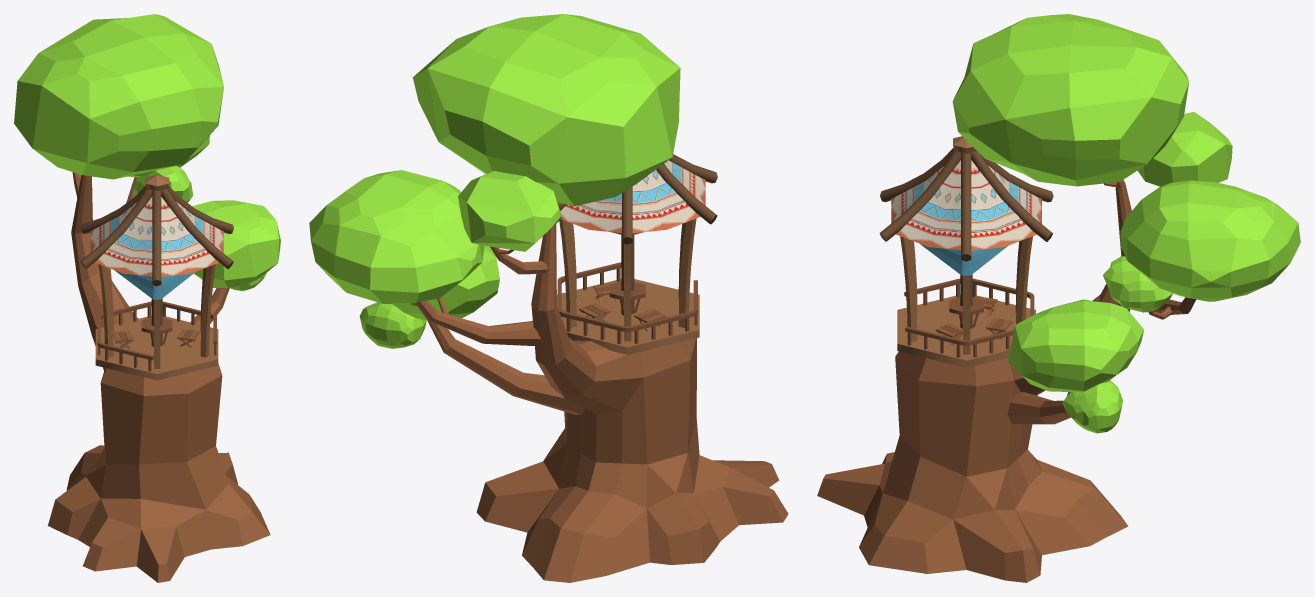
Rendered from O_Tree-House_1.fbx.
3 renders of one model, left to right at view 1: azimuth 30°, elevation 25°; view 2: azimuth 150°, elevation 25°; view 3: azimuth 270°, elevation 25°, orthographic. The views are drawn at different scales.
Parts seen in each view (by area): view 1: Tree, House-1, Roof; view 2: Tree, House-1, Roof; view 3: Tree, House-1, Roof.
Part boxes in pixels (left/top/right/bottom): Tree: left=14, top=14, right=280, bottom=582; House-1: left=80, top=174, right=233, bottom=380; Roof: left=90, top=197, right=223, bottom=276; Tree: left=309, top=14, right=788, bottom=582; House-1: left=557, top=154, right=717, bottom=354; Roof: left=560, top=160, right=705, bottom=233; Tree: left=817, top=14, right=1300, bottom=582; House-1: left=879, top=136, right=1053, bottom=367; Roof: left=891, top=160, right=1041, bottom=250.
Bounding box in the file's own units: 883 × 1377 × 1208.
